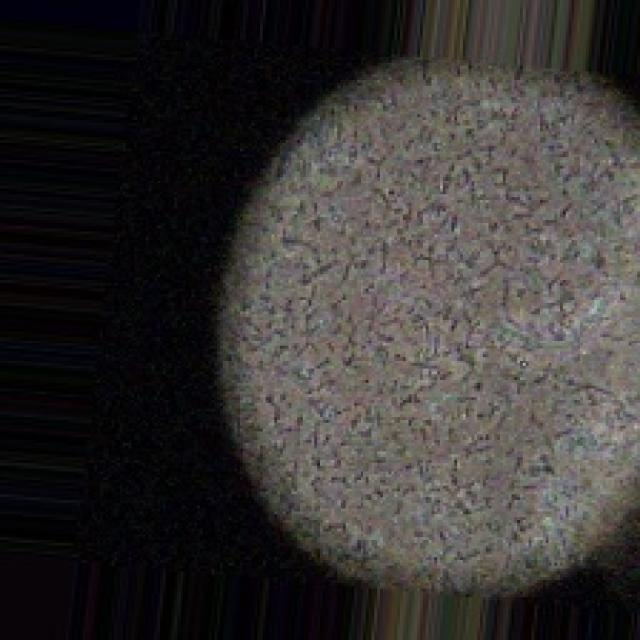Spiral_bacteria: (209, 51, 637, 594)
